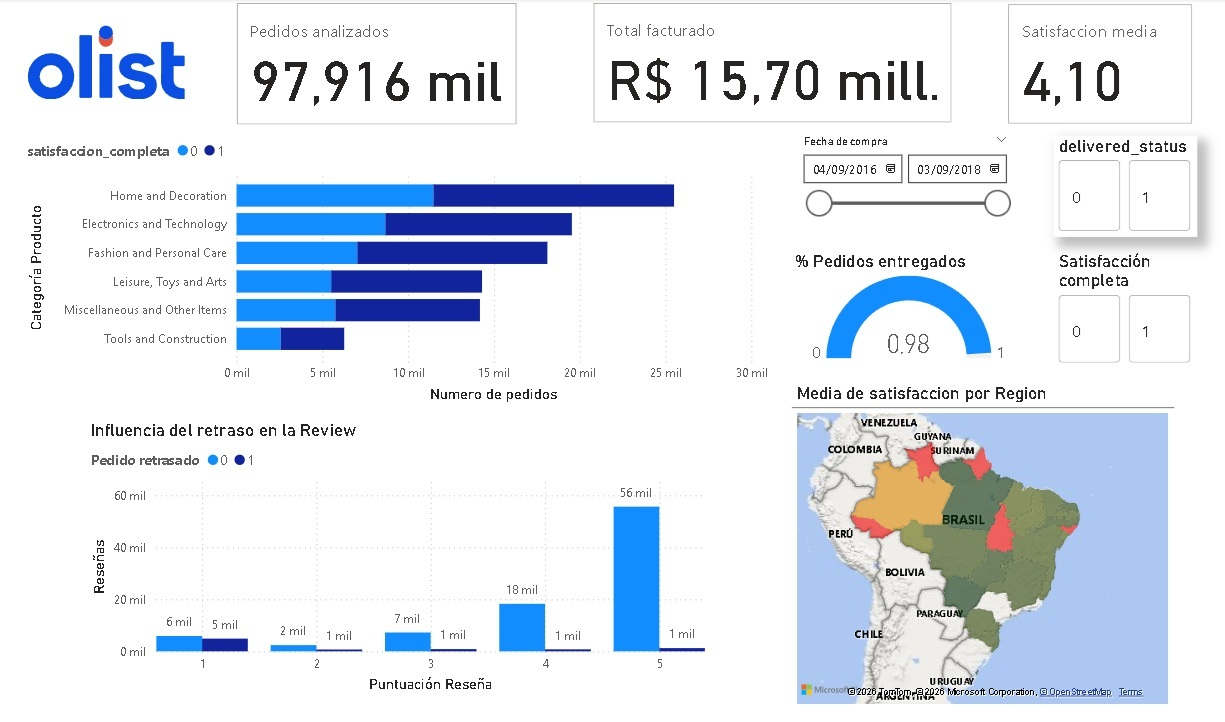

Layout of this report page (visuals, bound fields, positions):
{"tool":"powerbi","page":{"name":"Análisis global ","canvas":[1280,720],"ordinal":0},"visuals":[{"type":"cardVisual","fields":{"Data":["Count(final_data_VISUALIZACION.order_id)"]},"box":[314.8,0,281.9,127.8],"z":0},{"type":"cardVisual","fields":{"Data":["Avg(final_data_VISUALIZACION.media_review_score)"]},"box":[959,0,190,127],"z":1000},{"type":"advancedSlicerVisual","title":"Satisfacción completa","fields":{"Values":["final_data_VISUALIZACION.satisfaccion_completa"]},"box":[1008,246,141,114],"z":2000},{"type":"cardVisual","fields":{"Data":["Sum(final_data_VISUALIZACION.payment_value_sum)"]},"box":[596.8,0,359,126.9],"z":3000},{"type":"slicer","fields":{"Values":["final_data_VISUALIZACION.order_purchase_timestamp"]},"box":[776,128,223,111],"z":4000},{"type":"filledMap","fields":{"Category":["Tabla1.Nombre State"]},"box":[776,360,373,317],"z":5000},{"type":"barChart","fields":{"Category":["final_data_VISUALIZACION.product_category_name_english"],"Y":["CountNonNull(final_data_VISUALIZACION.order_id)"],"Series":["final_data_VISUALIZACION.satisfaccion_completa"]},"box":[152.2,127.8,608,270.7],"z":6000},{"type":"image","box":[152.2,0,162.6,118.4],"z":7000},{"type":"clusteredColumnChart","title":"Influencia del retraso en la Review","fields":{"Y":["CountNonNull(final_data_VISUALIZACION.media_review_score)"],"Category":["final_data_VISUALIZACION.media_review_score"],"Series":["final_data_VISUALIZACION.Pedido retrasado"]},"box":[152.2,398.5,608,270.7],"z":8000},{"type":"gauge","title":"% Pedidos entregados","fields":{"Y":["Avg(final_data_VISUALIZACION.delivered_status)"],"MaxValue":["Max(final_data_VISUALIZACION.delivered_status)"],"MinValue":["Min(final_data_VISUALIZACION.delivered_status)"]},"box":[777,246,231,114],"z":9000},{"type":"advancedSlicerVisual","fields":{"Values":["final_data_VISUALIZACION.delivered_status"]},"box":[1008,135,141,98],"z":10000}]}

Visuals, with their boxes on the page's 1280x720 design canvas (x1, y1, x2, y2). These are canvas units, not pixel positions in the 1225x722 screenshot, which may show the page scaled, cropped or inside an application window:
cardVisual - Count(final_data_VISUALIZACION.order_id): <box>315,0,597,128</box>
cardVisual - Avg(final_data_VISUALIZACION.media_review_score): <box>959,0,1149,127</box>
"Satisfacción completa" advancedSlicerVisual: <box>1008,246,1149,360</box>
cardVisual - Sum(final_data_VISUALIZACION.payment_value_sum): <box>597,0,956,127</box>
slicer - final_data_VISUALIZACION.order_purchase_timestamp: <box>776,128,999,239</box>
filledMap - Tabla1.Nombre State: <box>776,360,1149,677</box>
barChart - final_data_VISUALIZACION.product_category_name_english x CountNonNull(final_data_VISUALIZACION.order_id): <box>152,128,760,398</box>
image: <box>152,0,315,118</box>
"Influencia del retraso en la Review" clusteredColumnChart: <box>152,398,760,669</box>
"% Pedidos entregados" gauge: <box>777,246,1008,360</box>
advancedSlicerVisual - final_data_VISUALIZACION.delivered_status: <box>1008,135,1149,233</box>
